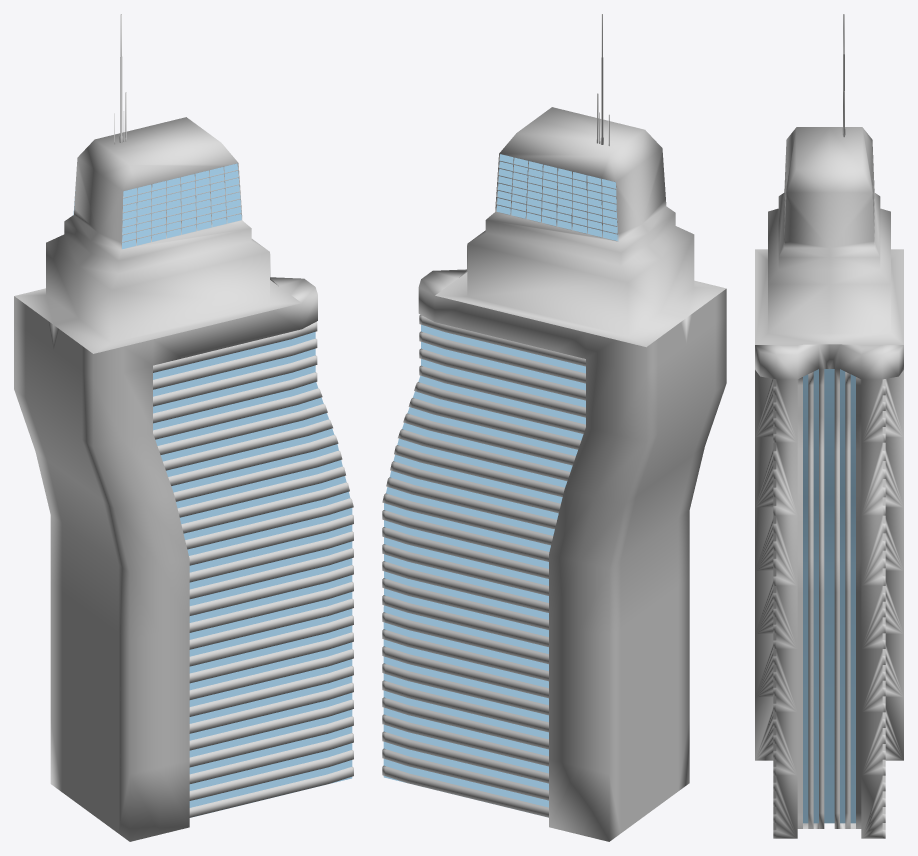
The model's file is skyscraper05_mc.fbx.
3 renders of one model, left to right at view 1: azimuth 30°, elevation 25°; view 2: azimuth 150°, elevation 25°; view 3: azimuth 270°, elevation 25°, orthographic. The views are drawn at different scales.
Visible parts, largest first — view 1: Box06, Plane03; view 2: Box06, Plane03; view 3: Box06, Plane03.
Part boxes in pixels (x1,y1,x2,y2): Box06: [14, 117, 353, 841]; Plane03: [73, 163, 352, 816]; Box06: [382, 107, 726, 841]; Plane03: [383, 154, 618, 807]; Box06: [755, 127, 903, 838]; Plane03: [803, 369, 855, 823].
Bounding box in the file's own units: 108 × 299 × 54.75.
